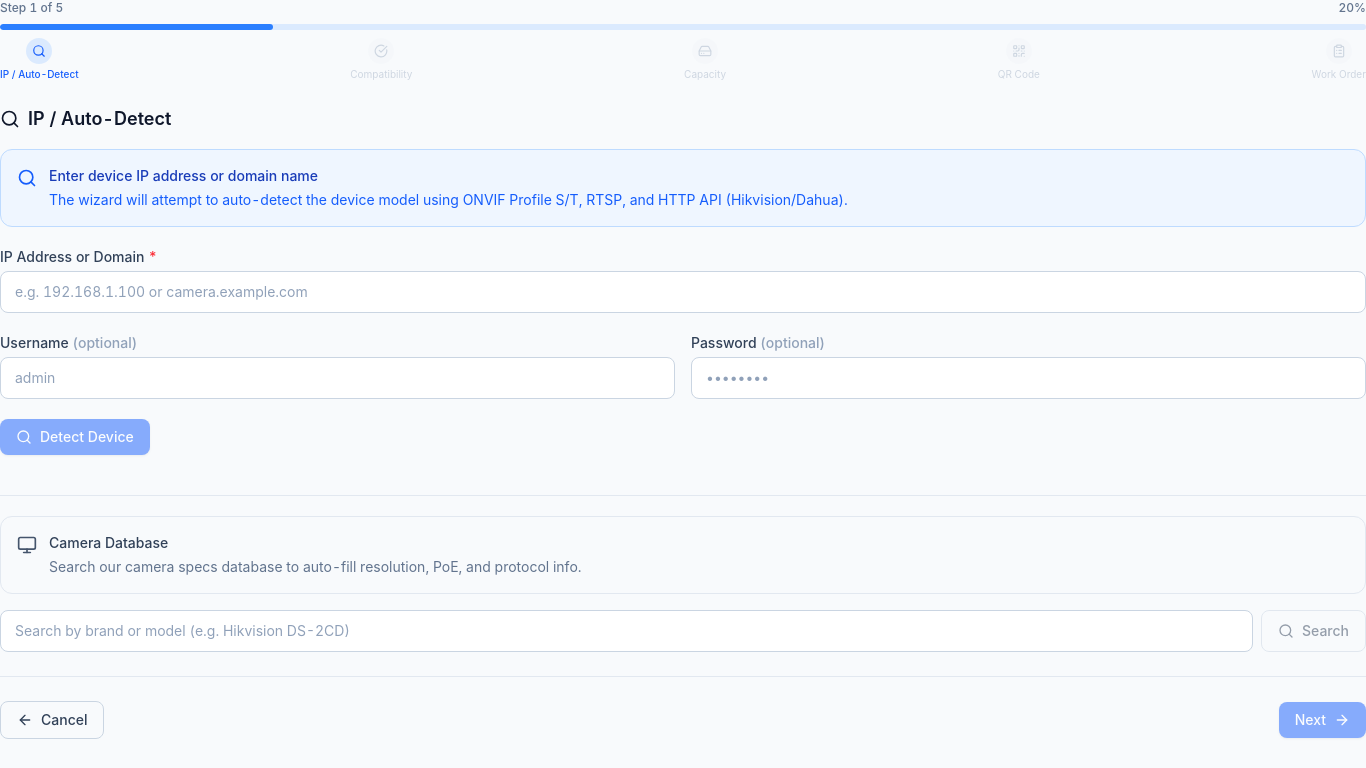
Test: DeviceWizard › Должен активировать кнопку Detect при введённом IP
The image size is (1366, 768).
In the field with placeholder "e.g. 192.168.1.100 or camera.example.com": {"x": 683, "y": 292} [0,270,1365,312], type "192.168.1.50"
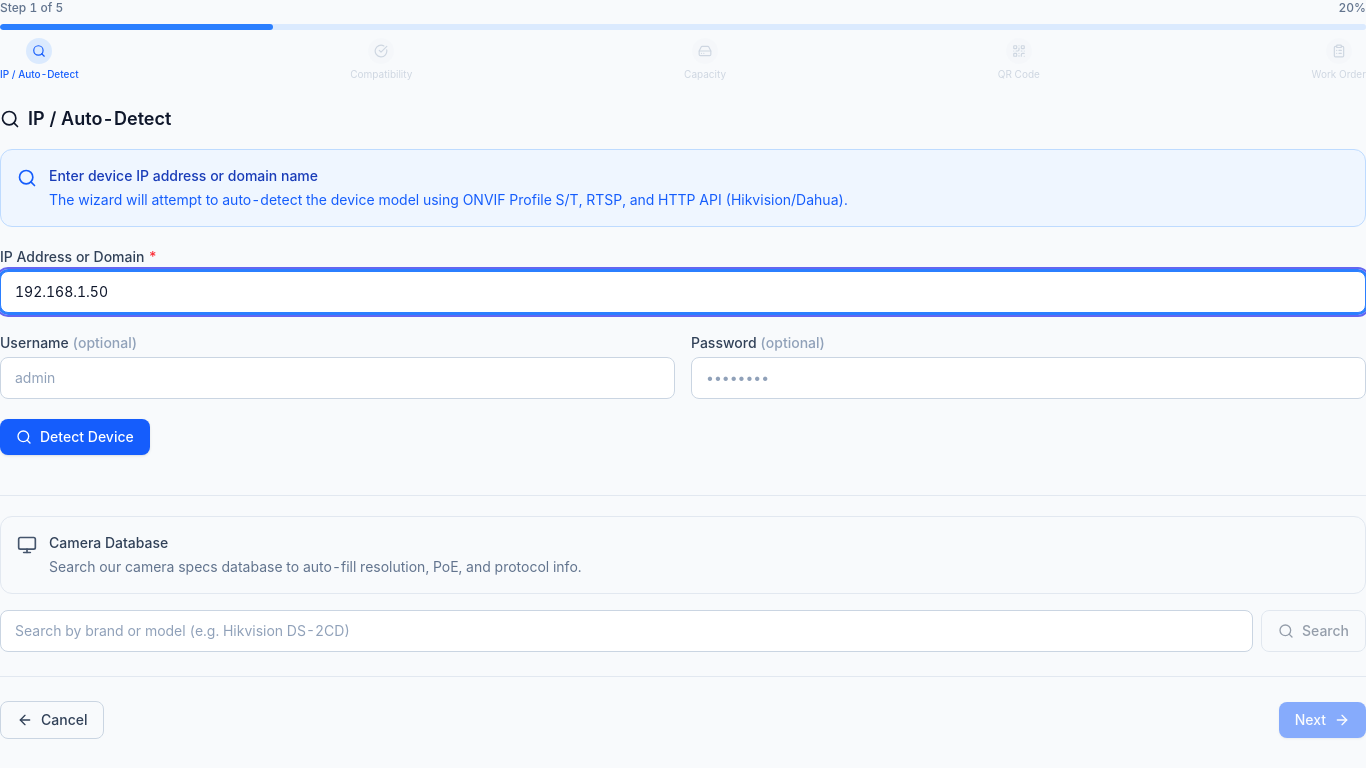
expect the button "Detect Device" is enabled: met, box [0,418,150,454]
